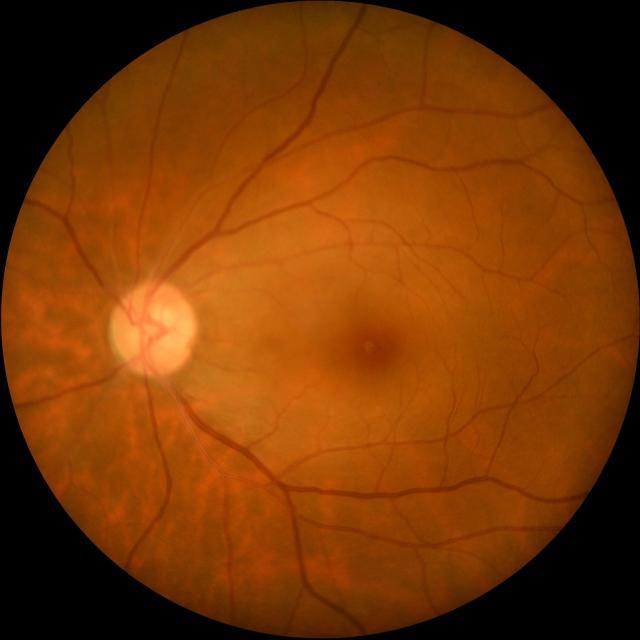OC: (135, 305, 175, 353)
OD: (108, 280, 195, 378)
